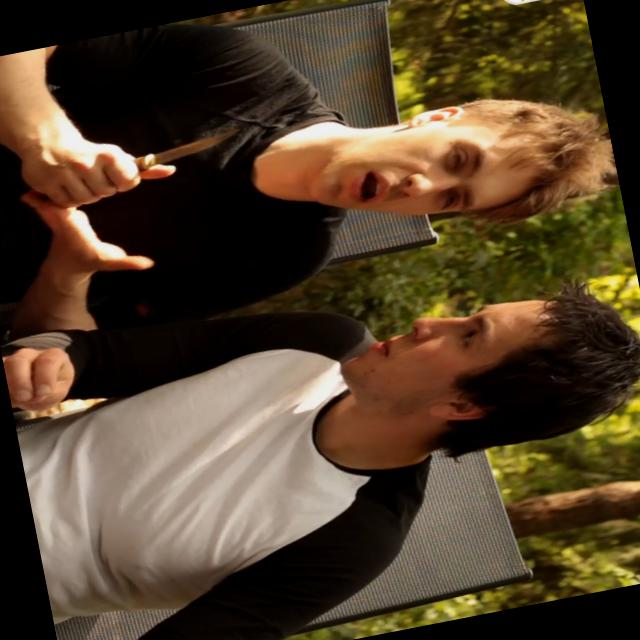knife: (74, 116, 254, 210)
